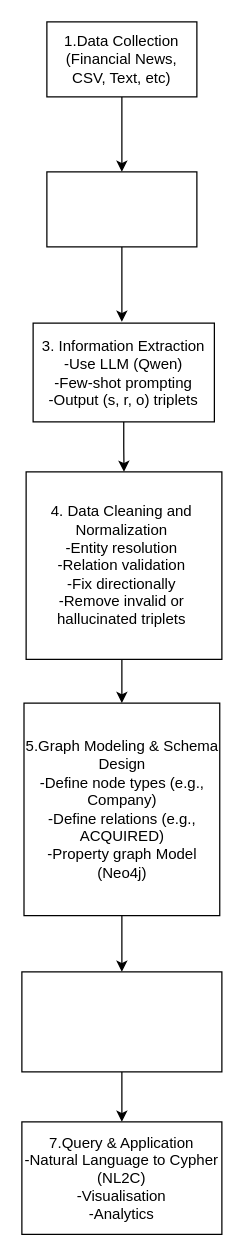
Some shapes in this 244 by 1256 pixel diagram are drawn without their labels. Here are the shapes that lost their labels. From the top down, the centre of each, then its label:
the point at 121,209: 2.Data Preprocessing -Clean Text -Sentence Splitting Remove noise
the point at 121,1021: 6.Graph Population -Load into Neo4j -Use MERGE/Cypher -Enforce uniqueness
